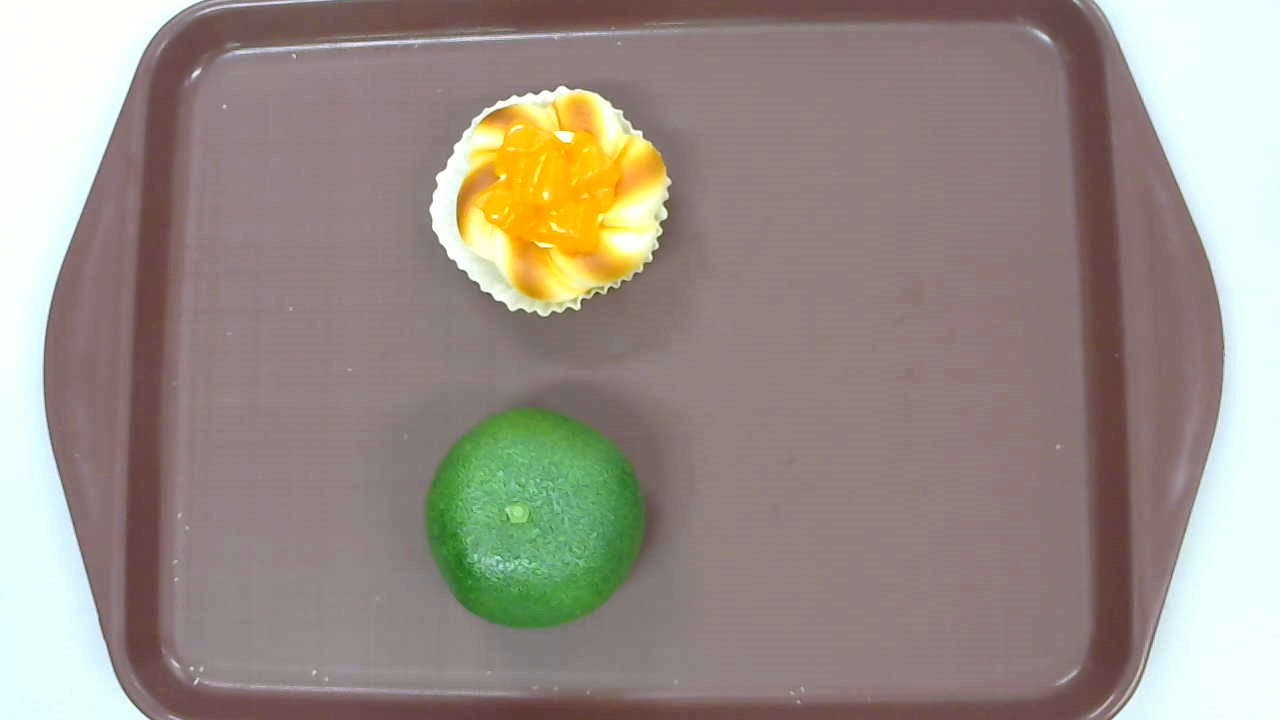green orange: (423, 405, 647, 631)
mango tart: (428, 84, 672, 321)
